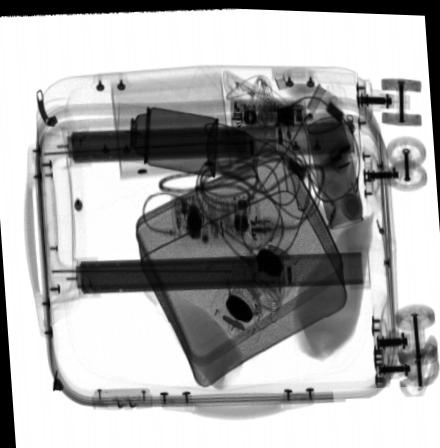Sprayer: (115, 100, 217, 175)
